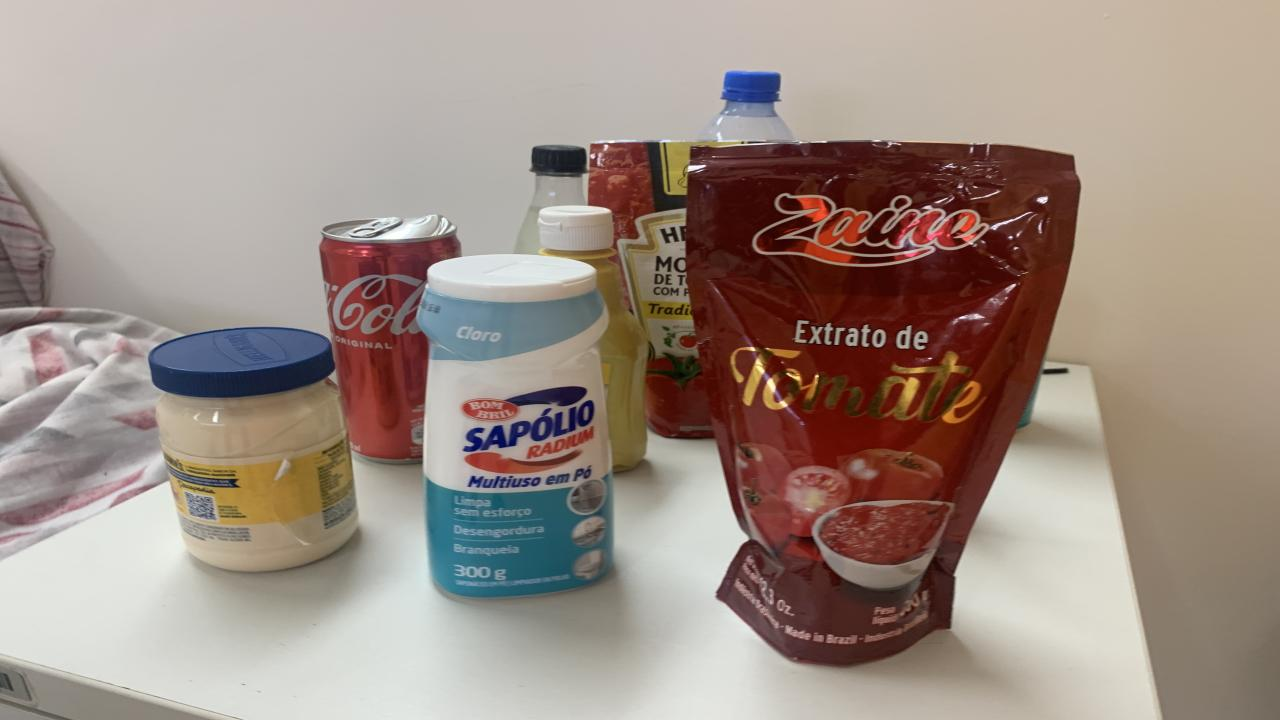Cleaner-Cleanup_Items: (418, 255, 612, 598)
Coke-Drinks: (320, 214, 462, 463)
English_Sauce-Pantry_Items: (515, 144, 588, 253)
Mayonnaise-Pantry_Items: (150, 326, 358, 572)
Mustard-Pantry_Items: (538, 204, 650, 471)
Tomato_Sauce-Pantry_Items: (688, 142, 1080, 666), (590, 141, 725, 437)
Water_Bottle-Drinks: (698, 71, 792, 141)
